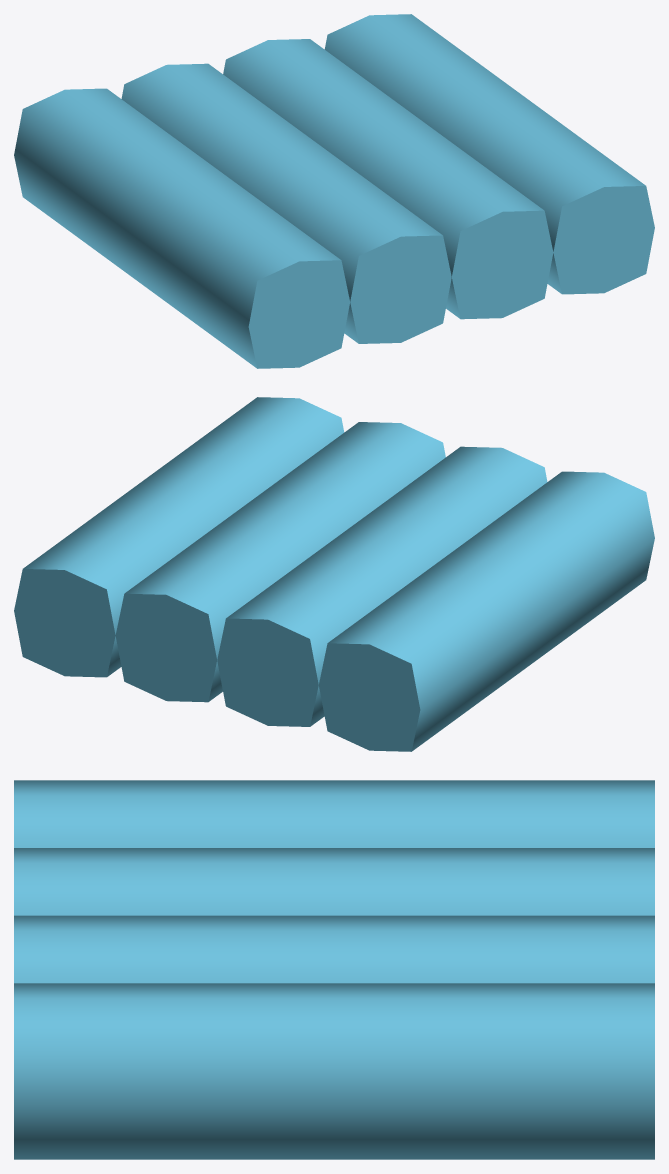
The model's file is ConveyorBars.glb.
The picture shows the model from 3 angles, top to bottom: view 1: azimuth 30°, elevation 25°; view 2: azimuth 150°, elevation 25°; view 3: azimuth 270°, elevation 25°; orthographic projection. The views are drawn at different scales.
Visible parts, largest first — view 1: conveyor-bars; view 2: conveyor-bars; view 3: conveyor-bars.
Boxes of the visible parts, left/top/right/bottom form: conveyor-bars: left=14, top=14, right=654, bottom=368; conveyor-bars: left=14, top=397, right=654, bottom=751; conveyor-bars: left=14, top=780, right=654, bottom=1159.
Bounding box in the file's own units: 1 × 0.25 × 1.
